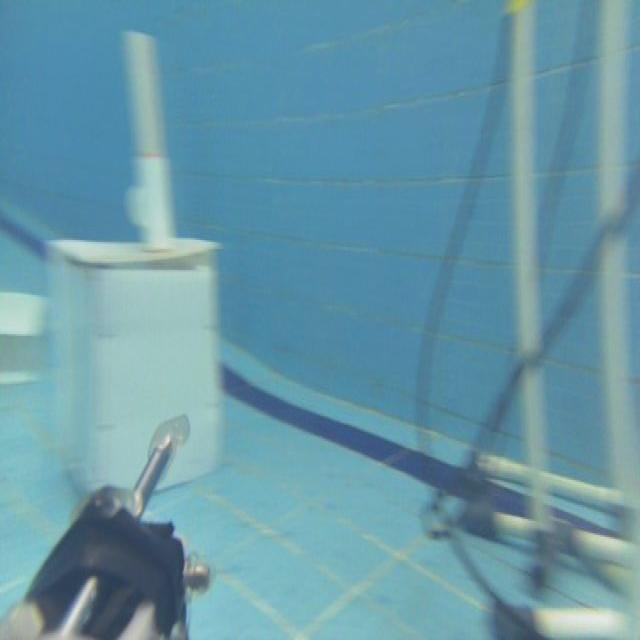Cube: (44, 231, 225, 500)
